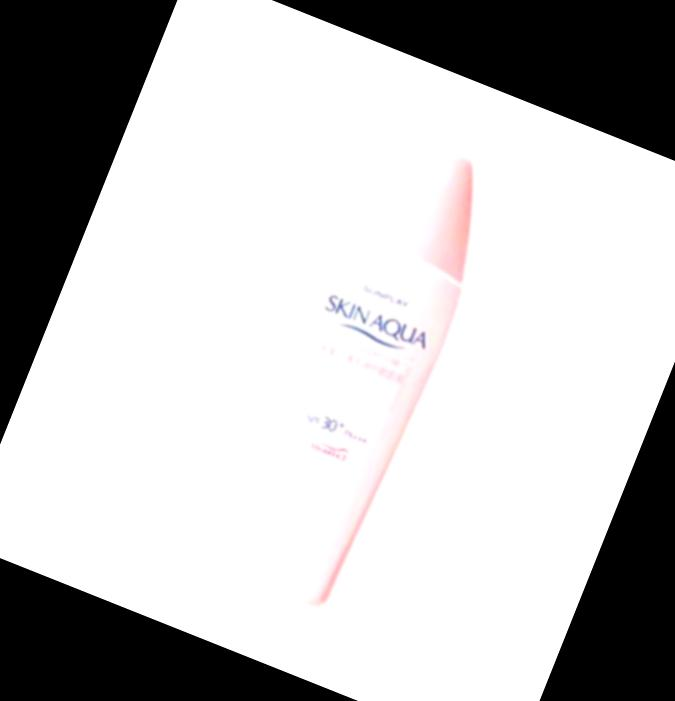cosmetic: (203, 119, 511, 620)
